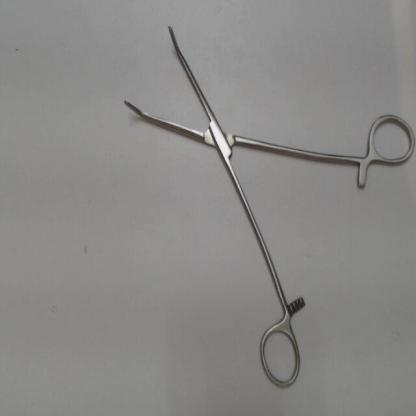Lahey Forceps: (112, 19, 416, 393)
